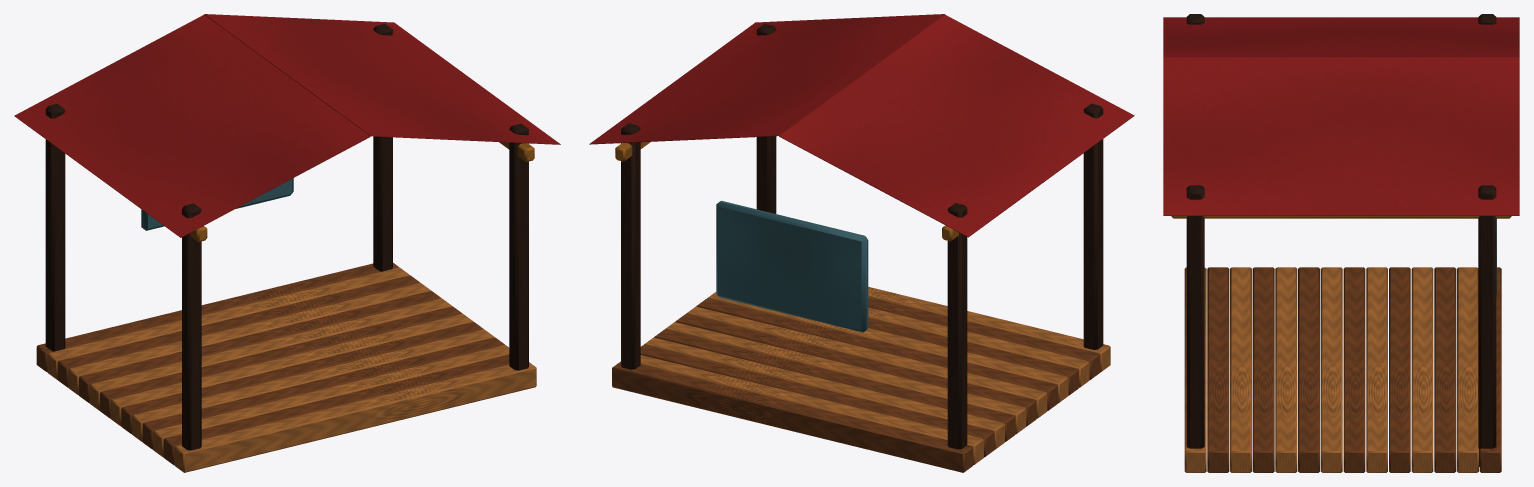
The model's file is Pavilhao_de_eventos_LOD0.fbx.
The picture shows the model from 3 angles, left to right: view 1: azimuth 30°, elevation 25°; view 2: azimuth 150°, elevation 25°; view 3: azimuth 270°, elevation 25°; orthographic projection. The views are drawn at different scales.
Parts seen in each view (by area): view 1: Pavilhao_de_eventos_LOD0; view 2: Pavilhao_de_eventos_LOD0; view 3: Pavilhao_de_eventos_LOD0.
Part boxes in pixels (box(x1,y1,x2,y2)): Pavilhao_de_eventos_LOD0: box(14, 14, 560, 472); Pavilhao_de_eventos_LOD0: box(589, 14, 1134, 472); Pavilhao_de_eventos_LOD0: box(1163, 14, 1519, 472).
Size of the model in its own units: 580 by 441 by 440.
Materials: 1 (1 with a texture image).
